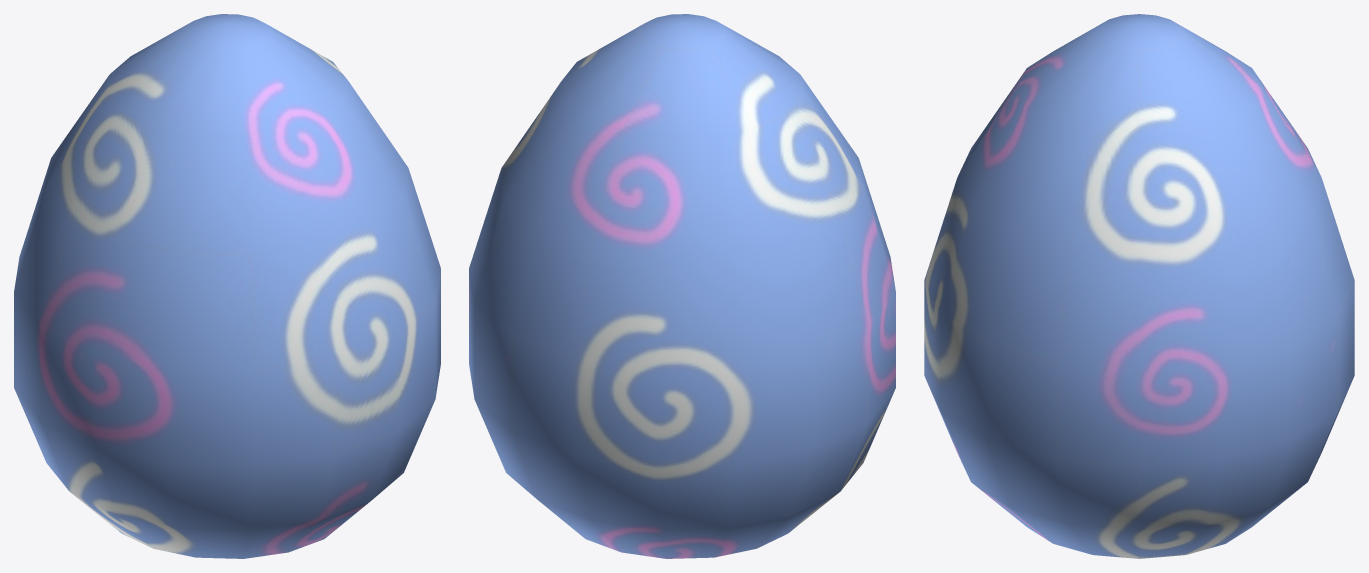
3 views of the same model, side by side, from view 1: azimuth 30°, elevation 25°; view 2: azimuth 150°, elevation 25°; view 3: azimuth 270°, elevation 25° (orthographic).
Parts seen in each view (by area): view 1: Egg-LowPoly-Spiraley_0; view 2: Egg-LowPoly-Spiraley_0; view 3: Egg-LowPoly-Spiraley_0.
Part boxes in pixels (x1=…): Egg-LowPoly-Spiraley_0: x1=14, y1=14, x2=440, y2=558; Egg-LowPoly-Spiraley_0: x1=469, y1=14, x2=895, y2=558; Egg-LowPoly-Spiraley_0: x1=924, y1=14, x2=1354, y2=558.
Size of the model in its own units: 1.96 by 2.6 by 1.96.
Materials: 1 (1 with a texture image).
